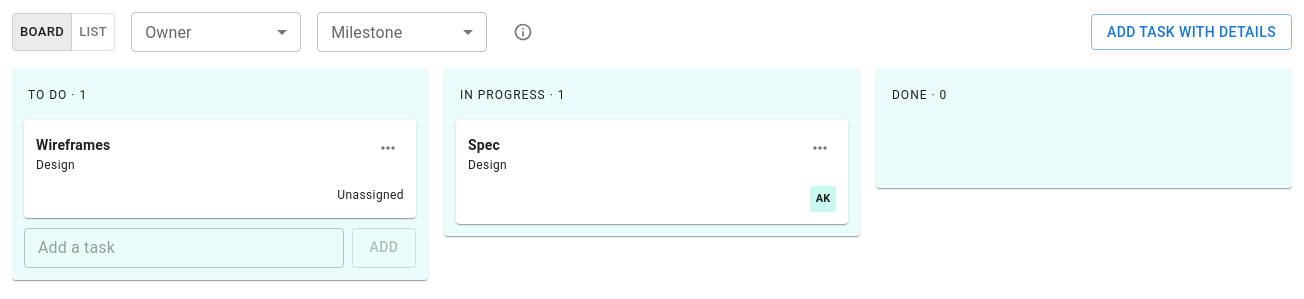
Test: TasksTab: a manager › shows the board first and the same tasks as a list on request
expect the element named "To do, 1" is shown: met, box [12, 68, 428, 280]
Step 1. Click the button "List" → (93, 32), box [71, 13, 115, 51]
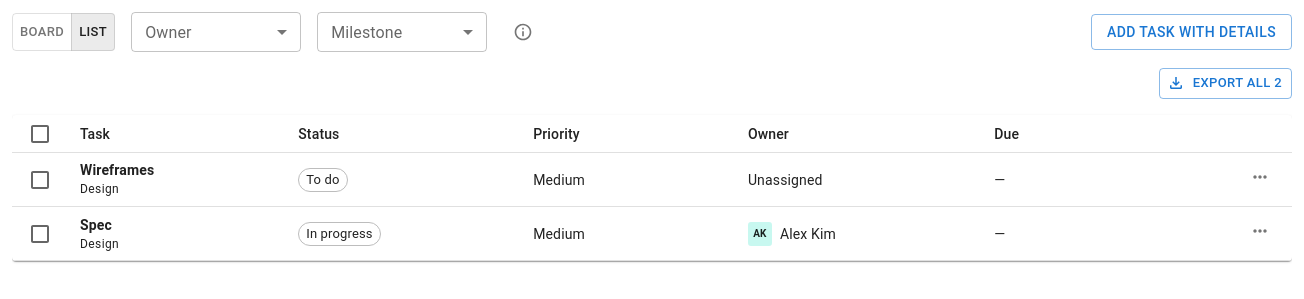
expect the button "Wireframes" is shown: met, box [80, 160, 154, 180]
expect the text "Alex Kim" is shown: met, box [780, 226, 836, 242]
Step 2. Click the button "Board" → (42, 32), box [12, 13, 72, 51]
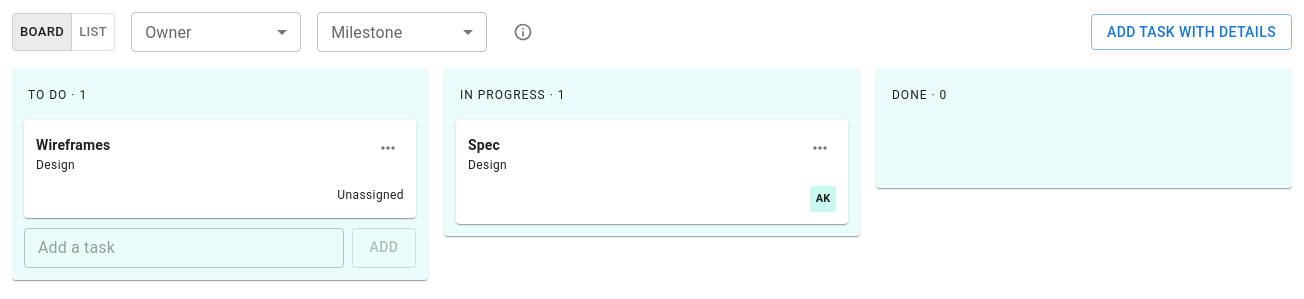
expect the element named "Done, 0" is shown: met, box [876, 68, 1292, 188]
